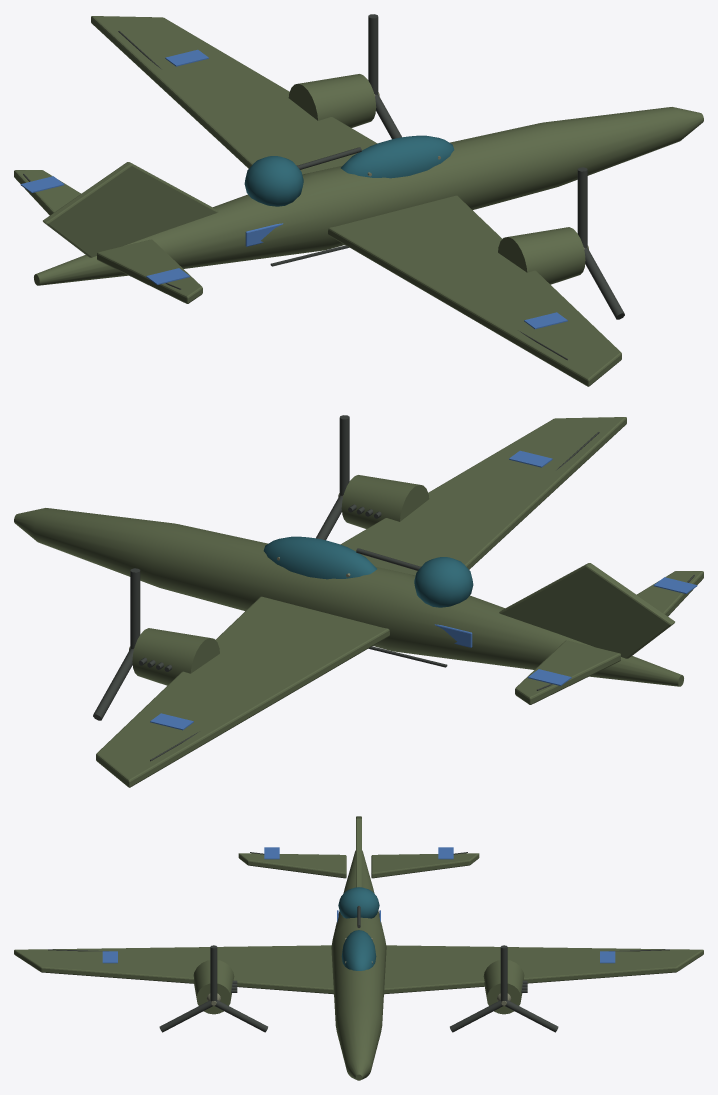
The model's file is bomber.glb.
3 renders of one model, top to bottom at view 1: azimuth 30°, elevation 25°; view 2: azimuth 150°, elevation 25°; view 3: azimuth 270°, elevation 25°, orthographic. The views are drawn at different scales.
Parts seen in each view (by area): view 1: Armor, Optics, Steel, TeamColor; view 2: Armor, Optics, Steel, TeamColor; view 3: Armor, Steel, Optics, TeamColor.
Part boxes in pixels (x1,y1,x2,y2): Armor: (14, 16, 703, 386); Optics: (244, 135, 454, 206); Steel: (23, 14, 624, 360); TeamColor: (20, 49, 567, 329); Armor: (14, 417, 703, 787); Optics: (263, 536, 473, 607); Steel: (93, 415, 694, 761); TeamColor: (150, 450, 697, 730); Armor: (14, 816, 703, 1080); Steel: (48, 852, 669, 1032); Optics: (338, 887, 379, 970); TeamColor: (102, 847, 615, 963).
Bounding box in the file's own units: 7.7 × 1.53 × 9.99.
